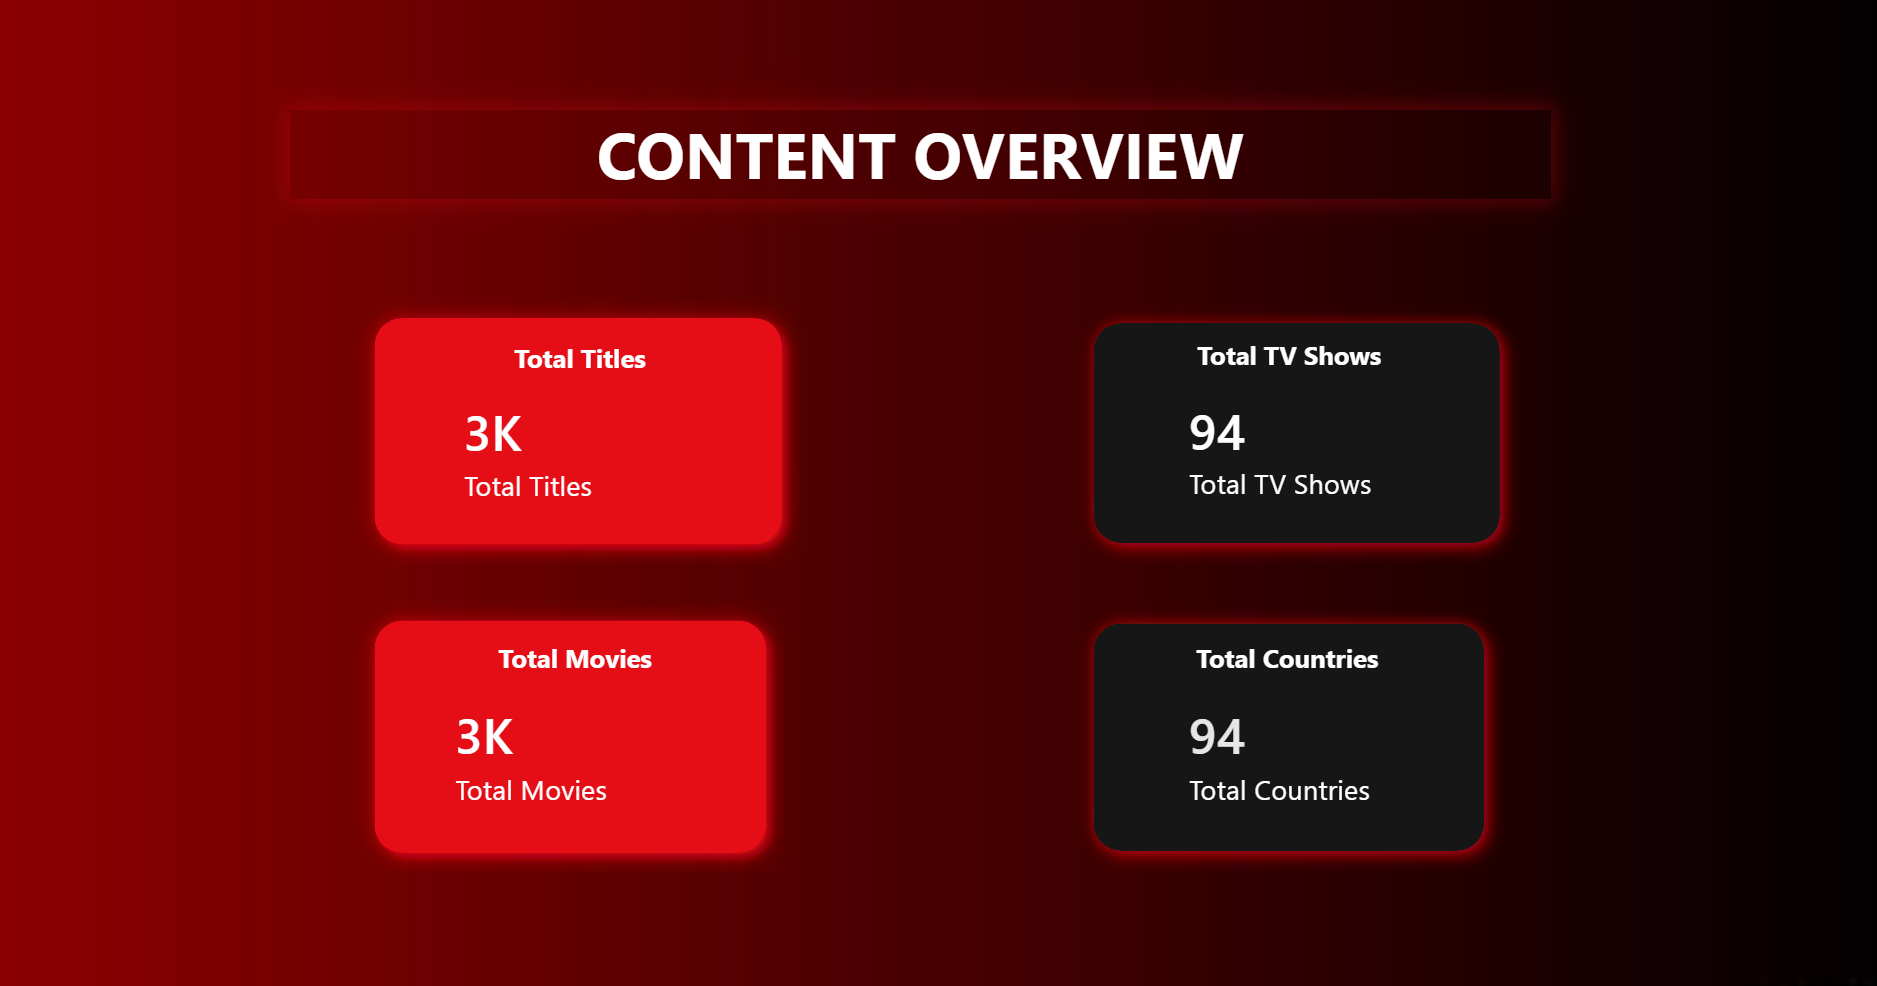

The dashboard page shown, as its layout file describes it:
{"tool":"powerbi","page":{"name":"Duplicate of Page 2","canvas":[1280,720],"ordinal":1},"visuals":[{"type":"shape","box":[215.7,437.1,312.9,197.1],"z":0},{"type":"shape","box":[215.7,217.1,324.3,192.9],"z":1000},{"type":"shape","box":[737.1,438.6,314.3,195.7],"z":2000},{"type":"shape","box":[737.1,220,325.7,190],"z":3000},{"type":"cardVisual","title":"Total Countries","fields":{"Data":["netflix_titles_nov_2019.Total Countries"]},"box":[791.4,465.7,202.9,138.6],"z":4000},{"type":"cardVisual","title":"Total Movies","fields":{"Data":["netflix_titles_nov_2019.Total Movies"]},"box":[258.6,465.7,234.3,138.6],"z":5000},{"type":"cardVisual","title":"Total Titles","fields":{"Data":["netflix_titles_nov_2019.Total Titles"]},"box":[264.3,247.1,228.6,132.9],"z":6000},{"type":"cardVisual","title":"Total TV Shows","fields":{"Data":["netflix_titles_nov_2019.Total TV Shows"]},"box":[791.4,245.7,205.7,134.3],"z":7000},{"type":"textbox","title":"CONTENT OVERVIEW","box":[167.9,79.6,916.8,64.7],"z":8000}]}

Visuals, with their boxes on the page's 1280x720 design canvas (x1, y1, x2, y2). These are canvas units, not pixel positions in the 1877x986 screenshot, which may show the page scaled, cropped or inside an application window:
shape: locate(216, 437, 529, 634)
shape: locate(216, 217, 540, 410)
shape: locate(737, 439, 1051, 634)
shape: locate(737, 220, 1063, 410)
"Total Countries" cardVisual: locate(791, 466, 994, 604)
"Total Movies" cardVisual: locate(259, 466, 493, 604)
"Total Titles" cardVisual: locate(264, 247, 493, 380)
"Total TV Shows" cardVisual: locate(791, 246, 997, 380)
"CONTENT OVERVIEW" textbox: locate(168, 80, 1085, 144)
